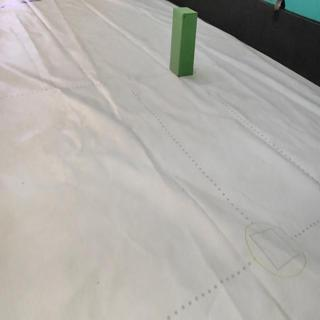greenbox: (168, 5, 199, 77)
